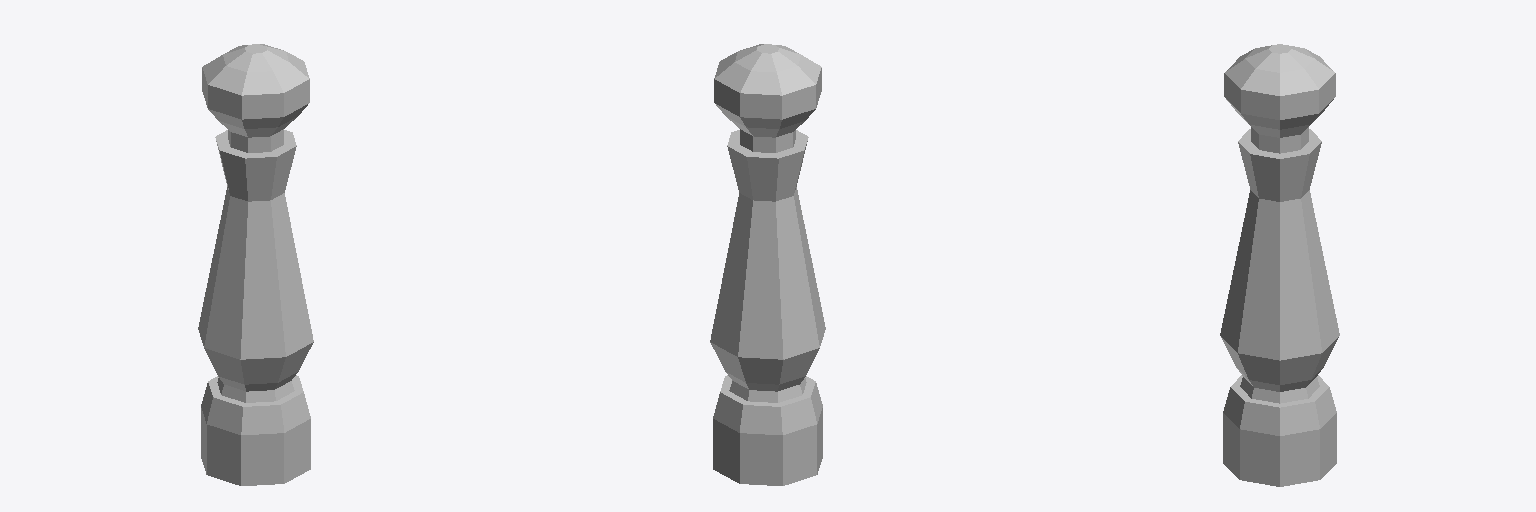
File: pepperMill.obj
3 renders of one model, left to right at view 1: azimuth 30°, elevation 25°; view 2: azimuth 150°, elevation 25°; view 3: azimuth 270°, elevation 25°, orthographic.
Parts seen in each view (by area): view 1: pepperMill; view 2: pepperMill; view 3: pepperMill.
Boxes of the visible parts, x1=… form: pepperMill: x1=198, y1=44, x2=313, y2=485; pepperMill: x1=710, y1=44, x2=825, y2=485; pepperMill: x1=1220, y1=44, x2=1339, y2=486.
Size of the model in its own units: 0.141 by 0.5372 by 0.141.